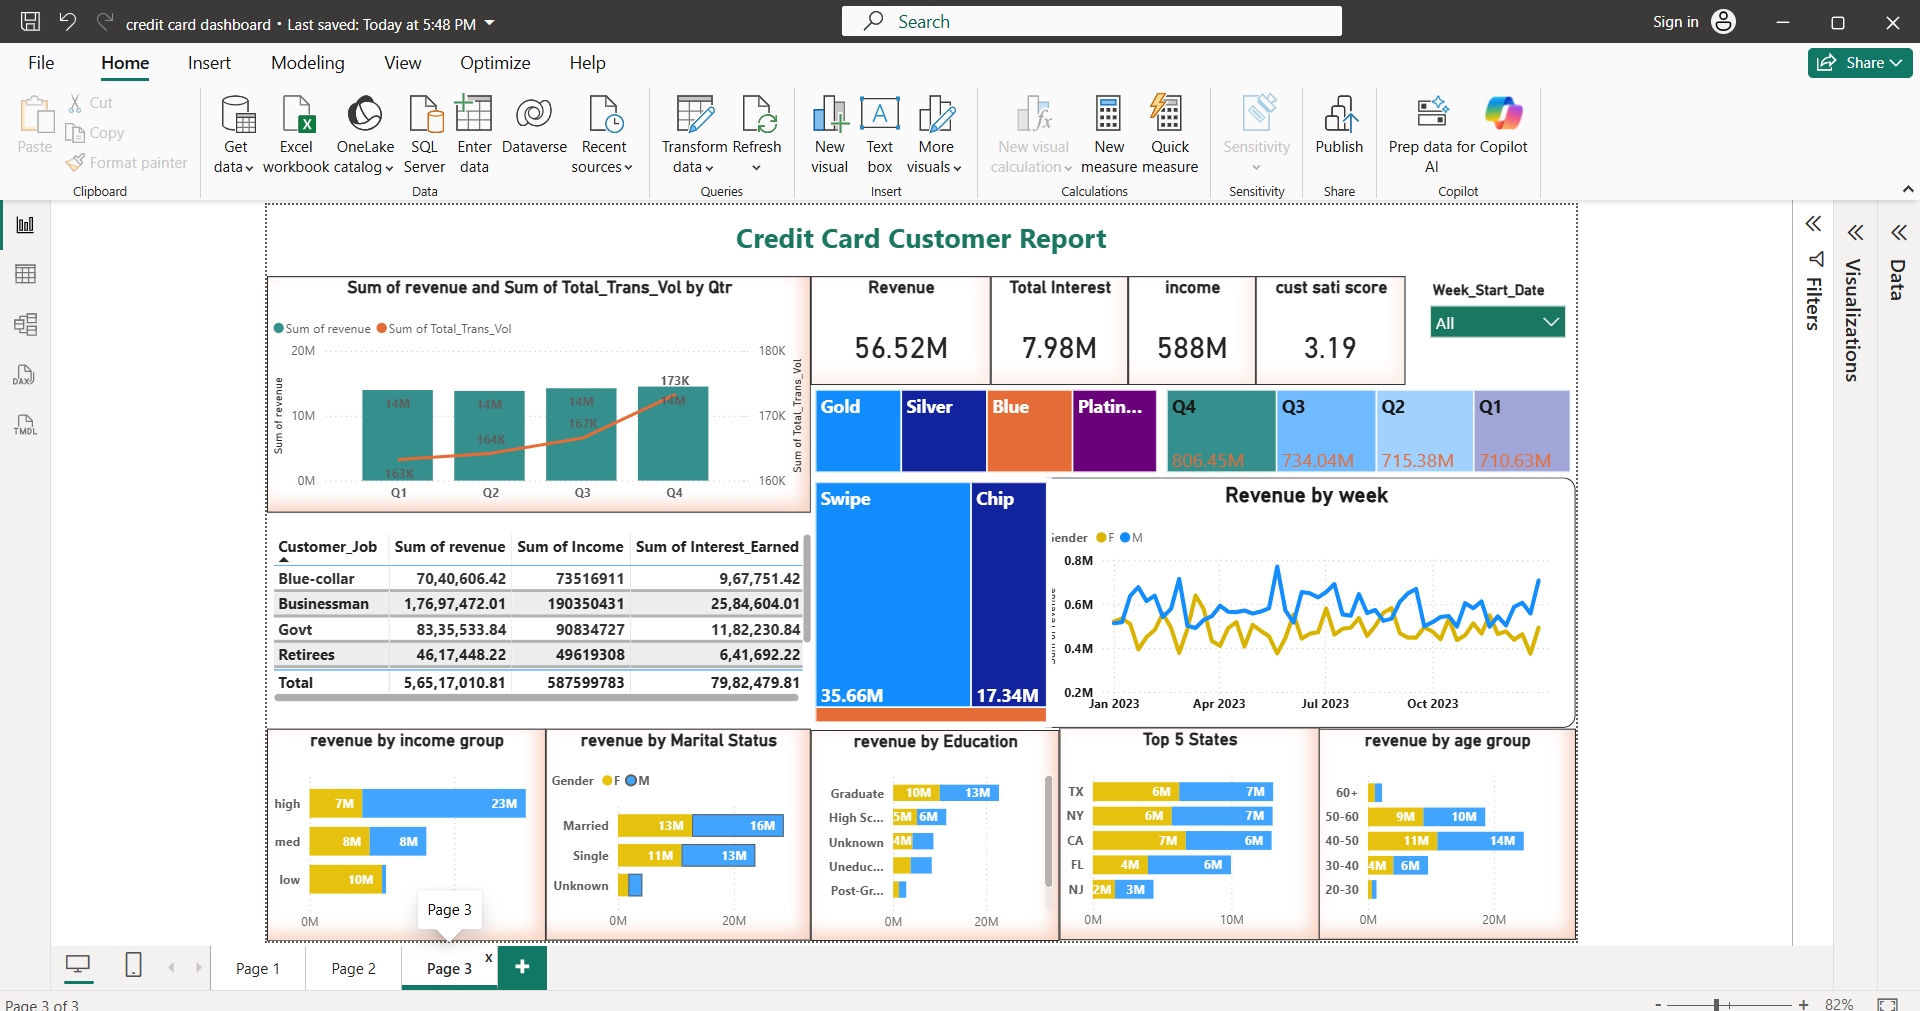

What the dashboard file says about the page in this screenshot:
{"tool":"powerbi","page":{"name":"Page 3","canvas":[1280,720],"ordinal":2},"visuals":[{"type":"barChart","title":"revenue by income group","fields":{"Y":["Sum(creditcard_details.revenue)"],"Category":["customer_details.income_group"],"Series":["customer_details.Gender"]},"box":[0,512.4,272.7,207.9],"z":0},{"type":"tableEx","fields":{"Values":["customer_details.Customer_Job","Sum(creditcard_details.revenue)","Sum(customer_details.Income)","Sum(creditcard_details.Interest_Earned)"]},"box":[0,316.7,538,174.9],"z":1000},{"type":"card","title":"Revenue","fields":{"Values":["Sum(creditcard_details.revenue)"]},"box":[531.9,69.7,176.1,106.4],"z":2000},{"type":"card","title":"Total Interest","fields":{"Values":["Sum(creditcard_details.Interest_Earned)"]},"box":[707.4,69.9,134.6,106.7],"z":3000},{"type":"card","title":"income","fields":{"Values":["Sum(customer_details.Income)"]},"box":[842.5,69.7,124.7,106.4],"z":4000},{"type":"card","title":"cust sati score","fields":{"Values":["Avg(customer_details.Cust_Satisfaction_Score)"]},"box":[967.3,69.7,146.7,106.4],"z":5000},{"type":"lineStackedColumnComboChart","fields":{"Y":["Sum(creditcard_details.revenue)"],"Category":["creditcard_details.Qtr"],"Y2":["Sum(creditcard_details.Total_Trans_Vol)"]},"box":[0,69.7,531.9,231.1],"z":6000},{"type":"slicer","fields":{"Values":["creditcard_details.Week_Start_Date"]},"box":[1127.5,69.7,152.9,69.7],"z":7000},{"type":"textbox","box":[0,8.9,1280.3,50.8],"z":8000},{"type":"lineChart","title":"Revenue by week","fields":{"Category":["creditcard_details.Week_Start_Date.Variation.Date Hierarchy.Year","creditcard_details.Week_Start_Date.Variation.Date Hierarchy.Month","creditcard_details.Week_Start_Date.Variation.Date Hierarchy.Day"],"Y":["Sum(creditcard_details.revenue)"],"Series":["customer_details.Gender"]},"box":[752,266.6,528.4,245.1],"z":9000},{"type":"treemap","fields":{"Values":["Sum(creditcard_details.revenue)"],"Group":["creditcard_details.Use Chip"]},"box":[531.9,266.6,236,244.6],"z":10000},{"type":"barChart","title":"revenue by age group","fields":{"Y":["Sum(creditcard_details.revenue)"],"Category":["customer_details.age_group"],"Series":["customer_details.Gender"]},"box":[1028.4,512.4,251.9,206.7],"z":11000},{"type":"barChart","title":"revenue by Marital Status","fields":{"Y":["Sum(creditcard_details.revenue)"],"Category":["customer_details.Marital_Status"],"Series":["customer_details.Gender"]},"box":[272.7,512.4,259.1,207],"z":12000},{"type":"barChart","title":"revenue by Education","fields":{"Y":["Sum(creditcard_details.revenue)"],"Category":["customer_details.Education_Level"],"Series":["customer_details.Gender"]},"box":[531.9,513.6,243.3,206.7],"z":13000},{"type":"barChart","title":"Top 5 States","fields":{"Y":["Sum(creditcard_details.revenue)"],"Category":["customer_details.state_cd"],"Series":["customer_details.Gender"]},"box":[775.3,511.1,254.3,207.9],"z":14000},{"type":"treemap","fields":{"Group":["creditcard_details.Card_Category"],"Values":["Avg(creditcard_details.ï»¿Client_Num)"]},"box":[531.9,176.1,343.6,90.5],"z":15000},{"type":"treemap","fields":{"Values":["Avg(creditcard_details.ï»¿Client_Num)"],"Group":["creditcard_details.Qtr"]},"box":[875.5,176.1,404.8,90.5],"z":16000}]}

Visuals, with their boxes on the page's 1280x720 design canvas (x1, y1, x2, y2). These are canvas units, not pixel positions in the 1920x1011 screenshot, which may show the page scaled, cropped or inside an application window:
"revenue by income group" barChart: select_region(0, 512, 273, 720)
tableEx - customer_details.Customer_Job x Sum(creditcard_details.revenue): select_region(0, 317, 538, 492)
"Revenue" card: select_region(532, 70, 708, 176)
"Total Interest" card: select_region(707, 70, 842, 177)
"income" card: select_region(842, 70, 967, 176)
"cust sati score" card: select_region(967, 70, 1114, 176)
lineStackedColumnComboChart - Sum(creditcard_details.revenue) x creditcard_details.Qtr: select_region(0, 70, 532, 301)
slicer - creditcard_details.Week_Start_Date: select_region(1128, 70, 1280, 139)
textbox: select_region(0, 9, 1280, 60)
"Revenue by week" lineChart: select_region(752, 267, 1280, 512)
treemap - Sum(creditcard_details.revenue) x creditcard_details.Use Chip: select_region(532, 267, 768, 511)
"revenue by age group" barChart: select_region(1028, 512, 1280, 719)
"revenue by Marital Status" barChart: select_region(273, 512, 532, 719)
"revenue by Education" barChart: select_region(532, 514, 775, 720)
"Top 5 States" barChart: select_region(775, 511, 1030, 719)
treemap - creditcard_details.Card_Category x Avg(creditcard_details.ï»¿Client_Num): select_region(532, 176, 876, 267)
treemap - Avg(creditcard_details.ï»¿Client_Num) x creditcard_details.Qtr: select_region(876, 176, 1280, 267)
